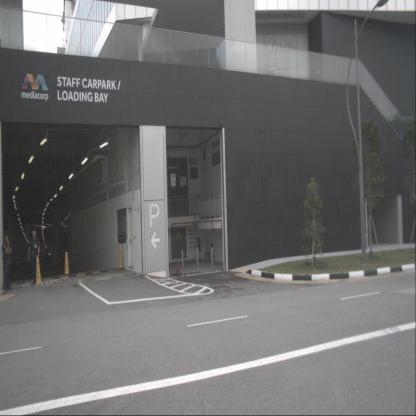cone: (36, 256, 42, 284), (64, 251, 70, 275), (119, 247, 124, 270)
